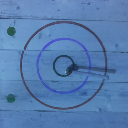Axe Tip: (67, 68, 77, 71)
